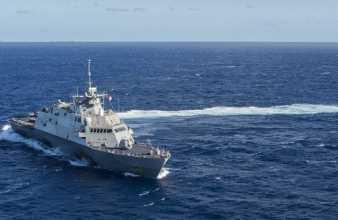warship: (12, 64, 171, 176)
